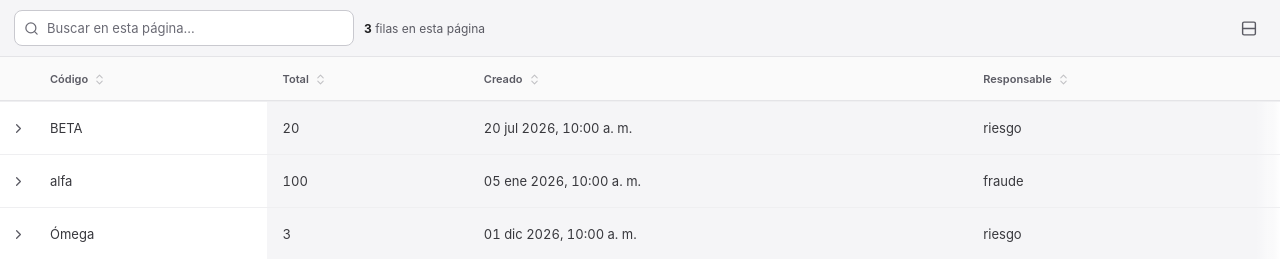
Test case: DataTable › filtra las filas cargadas y explica que el resto de páginas puede tener más
Step 1. Type "fraude" into the search field named "Buscar en las filas cargadas" → (184,28), box [14,10,354,46]
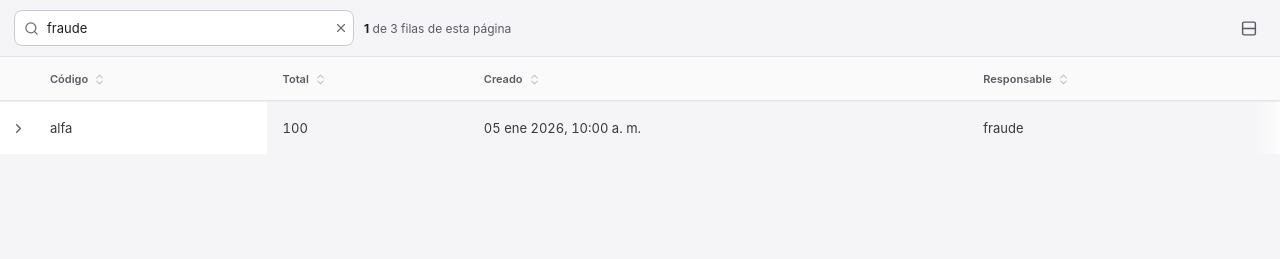
Step 2. Replace the text in the search field named "Buscar en las filas cargadas" with "no-existe" → (184,28), box [14,10,354,46]
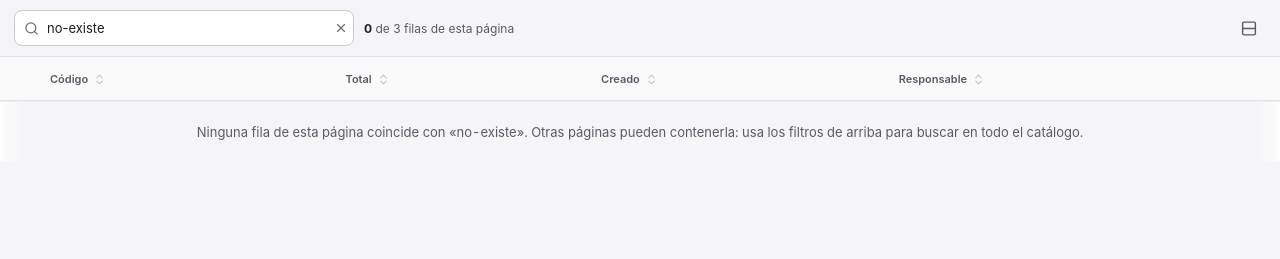
Result: the text "Otras páginas pueden contenerla" is shown at [517,124,1083,140]
